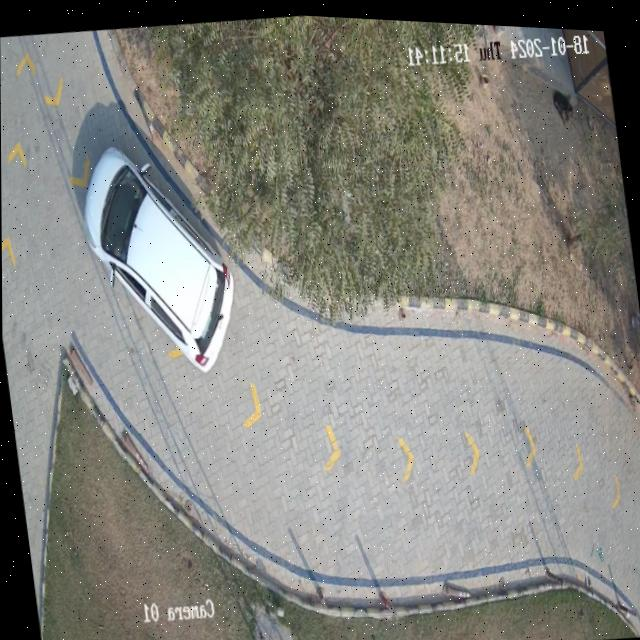car: (83, 146, 233, 370)
